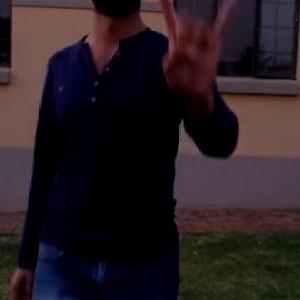takeoff-hand: (154, 0, 244, 101)
